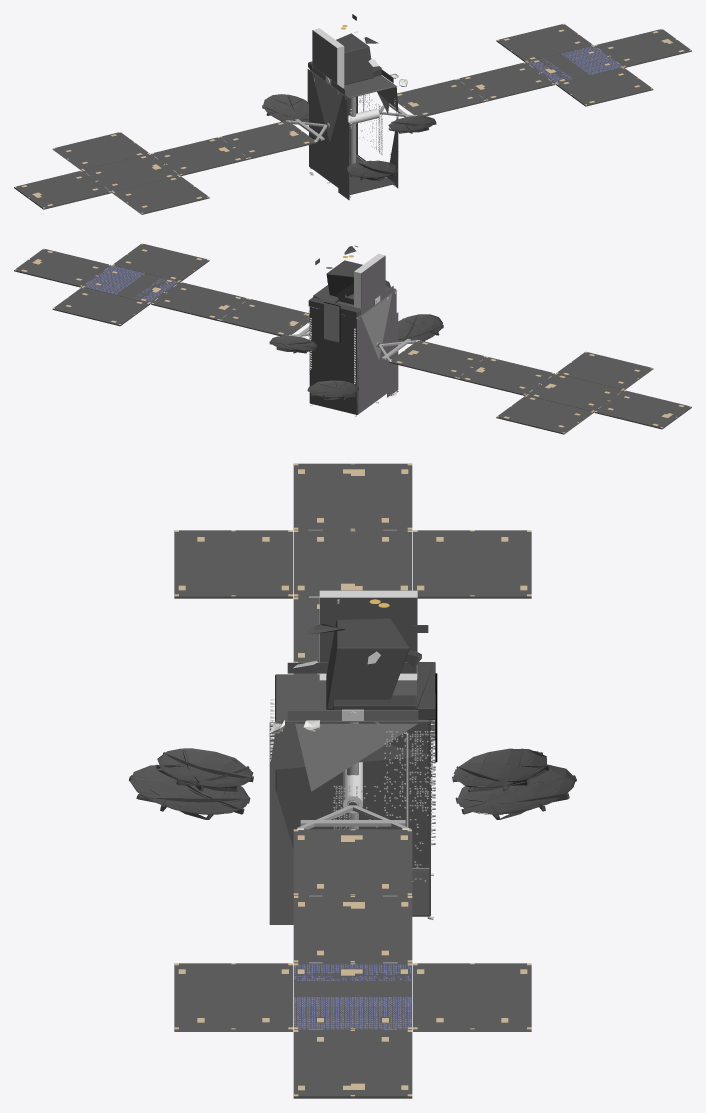
The model's file is ssl1300.glb.
3 renders of one model, top to bottom at view 1: azimuth 30°, elevation 25°; view 2: azimuth 150°, elevation 25°; view 3: azimuth 270°, elevation 25°, orthographic. The views are drawn at different scales.
Visible parts, largest first — view 1: ssl1300_18, ssl1300_5, ssl1300_0, ssl1300_20, ssl1300_22, ssl1300_8, ssl1300_1, ssl1300_19, ssl1300_24, ssl1300_4, ssl1300_3; view 2: ssl1300_18, ssl1300_0, ssl1300_5, ssl1300_20, ssl1300_22, ssl1300_8, ssl1300_17, ssl1300_19, ssl1300_24; view 3: ssl1300_18, ssl1300_0, ssl1300_1, ssl1300_20, ssl1300_5, ssl1300_8, ssl1300_22, ssl1300_19, ssl1300_3, ssl1300_24, ssl1300_2.
Boxes of the visible parts, x1,y1,x2,y2 form: ssl1300_18: (14, 14, 691, 214); ssl1300_5: (307, 30, 398, 200); ssl1300_0: (262, 33, 436, 194); ssl1300_20: (263, 94, 435, 178); ssl1300_22: (14, 23, 691, 213); ssl1300_8: (312, 73, 389, 142); ssl1300_1: (310, 69, 396, 121); ssl1300_19: (313, 28, 344, 87); ssl1300_24: (289, 103, 415, 141); ssl1300_4: (86, 48, 620, 189); ssl1300_3: (309, 31, 398, 197); ssl1300_18: (14, 244, 691, 434); ssl1300_0: (269, 246, 443, 414); ssl1300_5: (308, 255, 398, 414); ssl1300_20: (270, 280, 442, 397); ssl1300_22: (14, 243, 691, 433); ssl1300_8: (361, 294, 391, 359); ssl1300_17: (324, 302, 339, 342); ssl1300_19: (354, 253, 385, 308); ssl1300_24: (290, 326, 416, 361); ssl1300_18: (174, 463, 531, 1098); ssl1300_0: (129, 618, 576, 916); ssl1300_1: (275, 674, 430, 868); ssl1300_20: (130, 650, 575, 814); ssl1300_5: (269, 662, 435, 924); ssl1300_8: (295, 723, 417, 791); ssl1300_22: (174, 463, 531, 1096); ssl1300_19: (319, 590, 417, 720); ssl1300_3: (270, 599, 435, 919); ssl1300_24: (297, 805, 408, 829); ssl1300_2: (293, 651, 433, 827).
Size of the model in its own units: 268 by 59.51 by 80.37.
